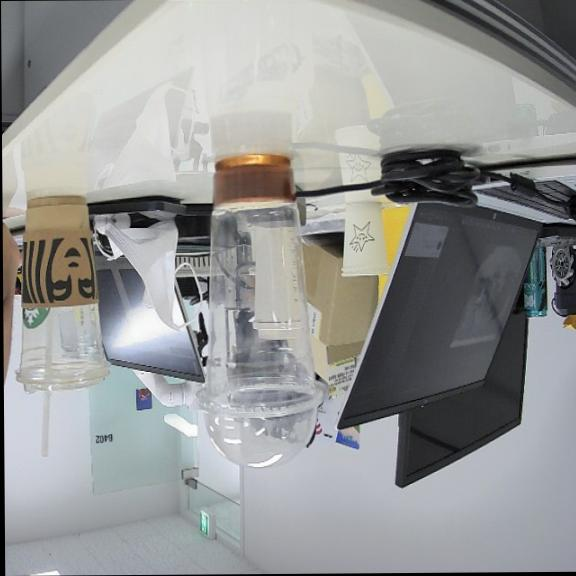Plastik: (199, 155, 322, 466)
